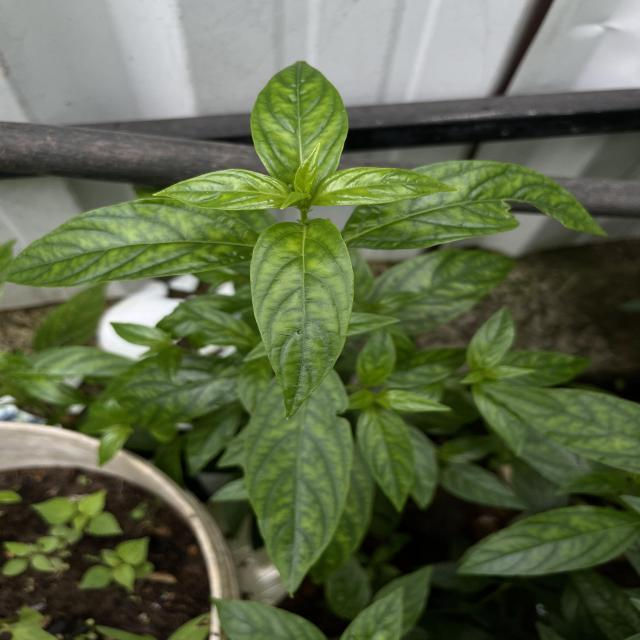Andrographis paniculata: (3, 196, 259, 288), (248, 216, 356, 422), (241, 406, 356, 598), (485, 380, 640, 476), (450, 504, 640, 577), (248, 58, 350, 188), (368, 247, 516, 330), (311, 166, 462, 207), (356, 410, 416, 512), (152, 168, 292, 211), (464, 304, 517, 372), (358, 328, 397, 389)
